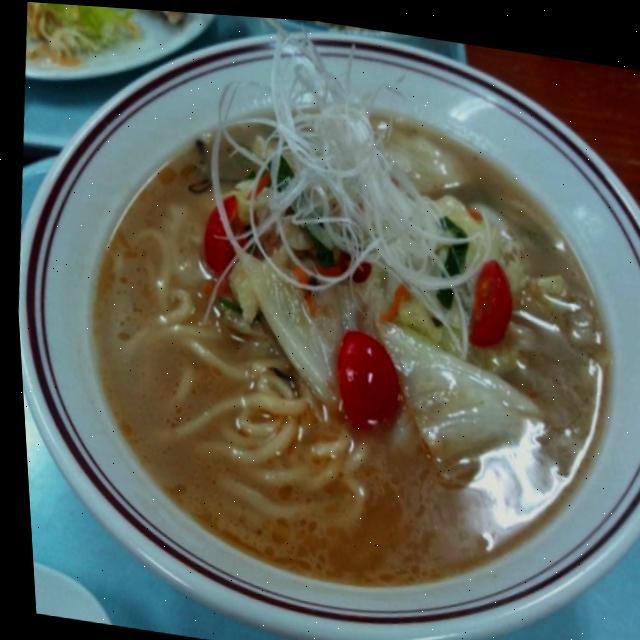米饭主食: (401, 31, 640, 640)
